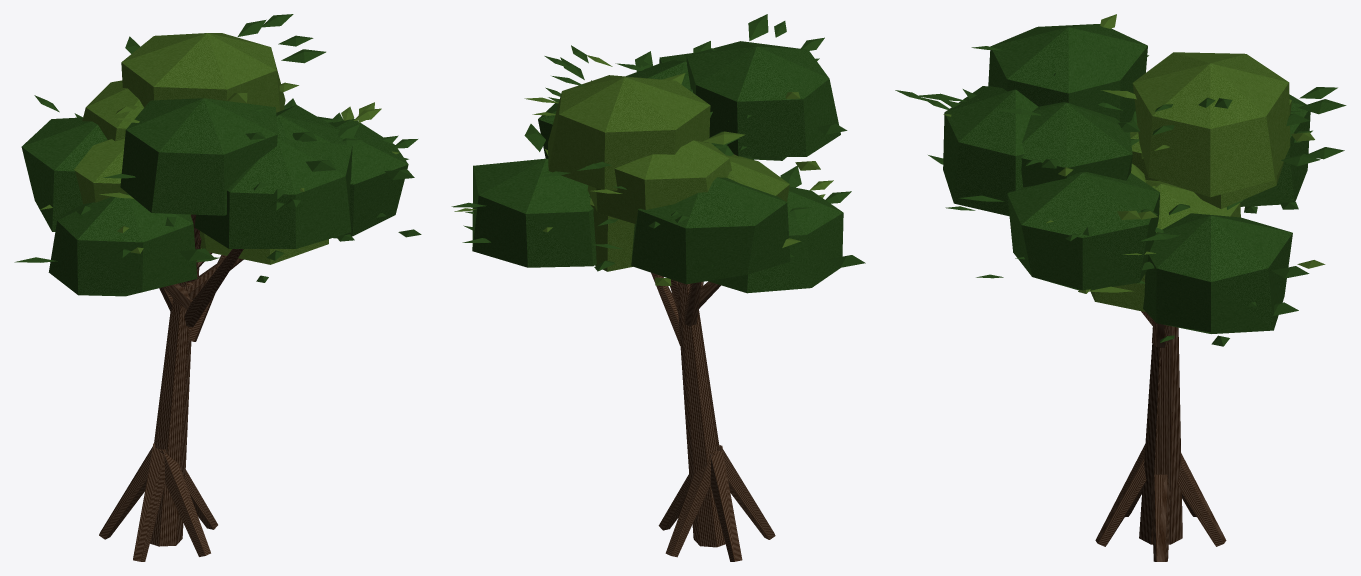
The model's file is broadleaf_windswept_02.fbx.
3 renders of one model, left to right at view 1: azimuth 30°, elevation 25°; view 2: azimuth 150°, elevation 25°; view 3: azimuth 270°, elevation 25°, orthographic. The views are drawn at different scales.
Parts seen in each view (by area): view 1: broadleaf_windswept_02_LOD0; view 2: broadleaf_windswept_02_LOD0; view 3: broadleaf_windswept_02_LOD0.
Part boxes in pixels (box(x1,y1,x2,y2)): broadleaf_windswept_02_LOD0: box(14, 14, 421, 561); broadleaf_windswept_02_LOD0: box(451, 14, 865, 561); broadleaf_windswept_02_LOD0: box(895, 14, 1346, 561).
Size of what is drawn, in the model's own units: 0.8598 by 1 by 0.8058.
Materials: 1 (1 with a texture image).
